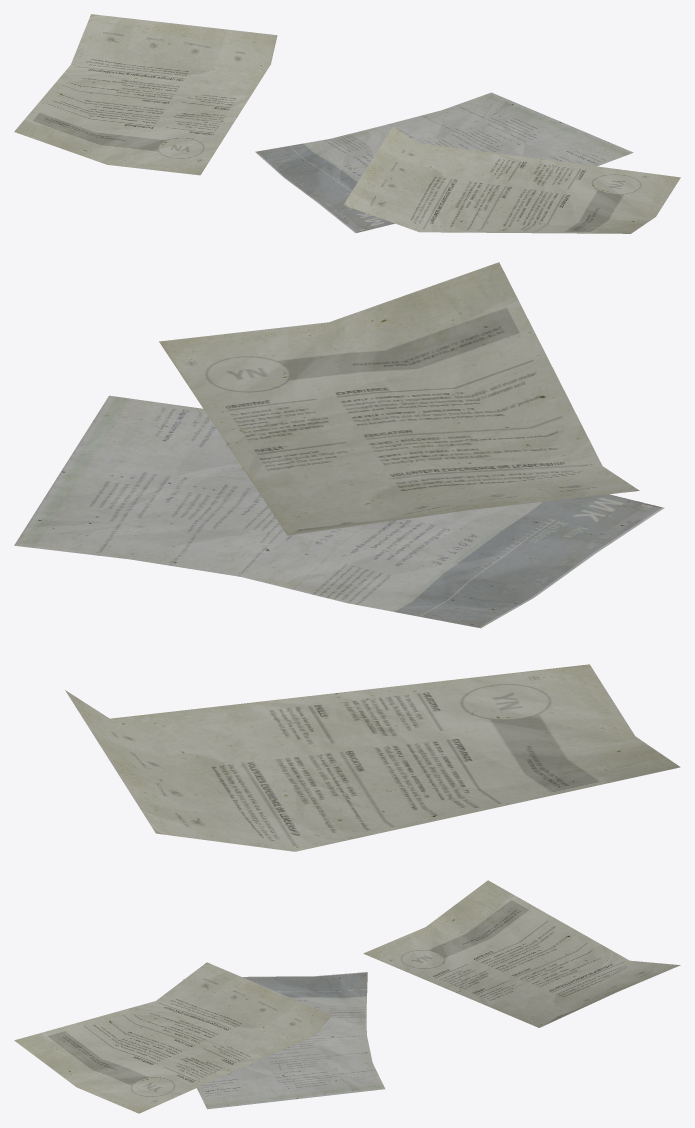
File: SM_Debris_Paper_Set5.fbx
The picture shows the model from 3 angles, top to bottom: view 1: azimuth 30°, elevation 25°; view 2: azimuth 150°, elevation 25°; view 3: azimuth 270°, elevation 25°; orthographic projection. The views are drawn at different scales.
Parts seen in each view (by area): view 1: SM_Debris_Paper_Set5_LOD0; view 2: SM_Debris_Paper_Set5_LOD0; view 3: SM_Debris_Paper_Set5_LOD0.
Part boxes in pixels (<box>): SM_Debris_Paper_Set5_LOD0: <box>14,14,680,233</box>; SM_Debris_Paper_Set5_LOD0: <box>14,262,680,851</box>; SM_Debris_Paper_Set5_LOD0: <box>14,880,680,1113</box>.
Bounding box in the file's own units: 47.49 × 62.84 × 2.13.
1 material, 1 textured.
